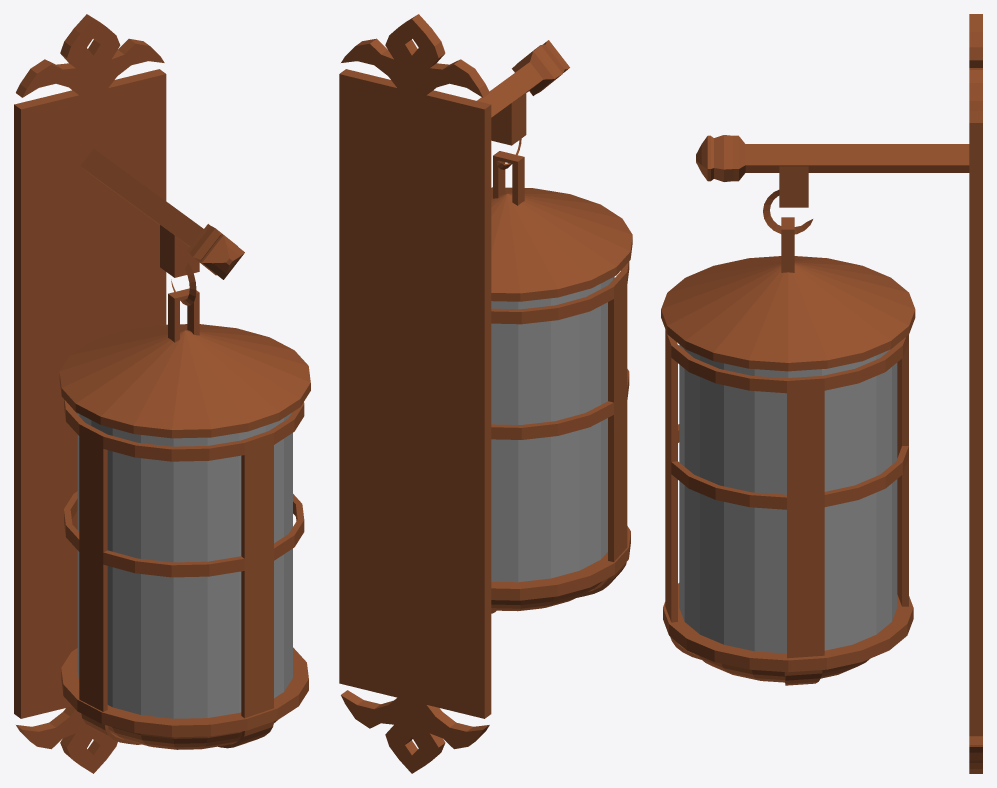
File: deng2.FBX
3 views of the same model, side by side, from view 1: azimuth 30°, elevation 25°; view 2: azimuth 150°, elevation 25°; view 3: azimuth 270°, elevation 25° (orthographic).
Visible parts, largest first — view 1: Acc_Light001, 对象004; view 2: Acc_Light001, 对象004; view 3: Acc_Light001, 对象004.
Boxes of the visible parts, <box> form: Acc_Light001: <box>14,14,310,773</box>; 对象004: <box>77,413,292,718</box>; Acc_Light001: <box>339,14,632,773</box>; 对象004: <box>491,276,614,582</box>; Acc_Light001: <box>661,14,982,773</box>; 对象004: <box>679,344,897,653</box>.
Bounding box in the file's own units: 0.2029 × 0.6689 × 0.2568.
